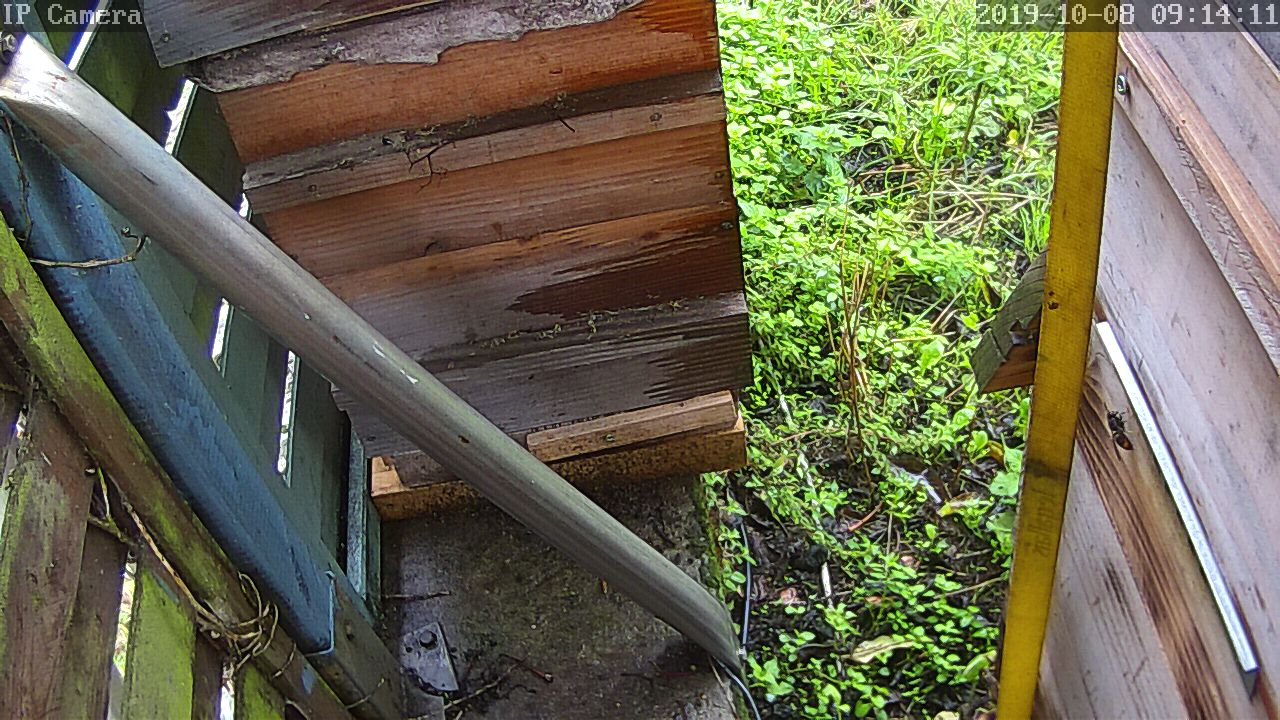hornet: (1099, 402, 1137, 459)
